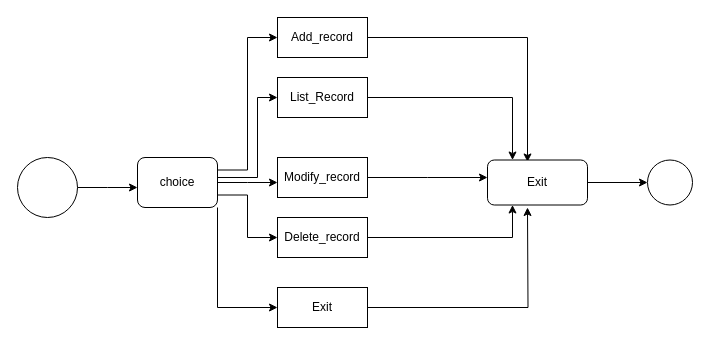
The diagram is 710 pixels wide and 345 high, and some of its shapes have lost their labels. Each missing label, with the centre of its shape:
Start: [47,187]
Stop: [669,182]
